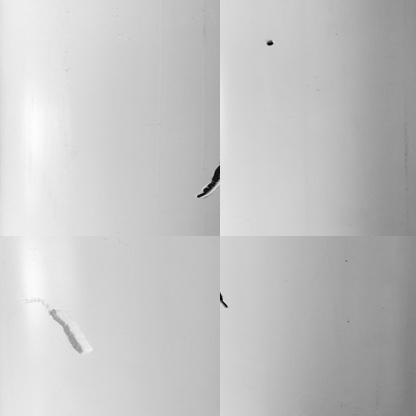fengxi: (216, 291, 234, 310)
kongdong: (194, 164, 222, 202), (264, 39, 273, 46)
sunshang: (36, 296, 90, 358)
